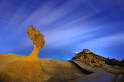yehliu: (23, 24, 50, 50)
